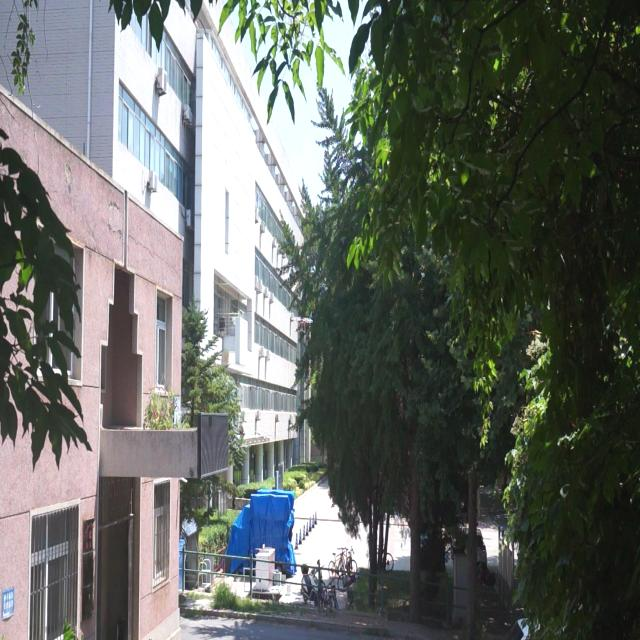drone: (292, 316, 314, 340)
